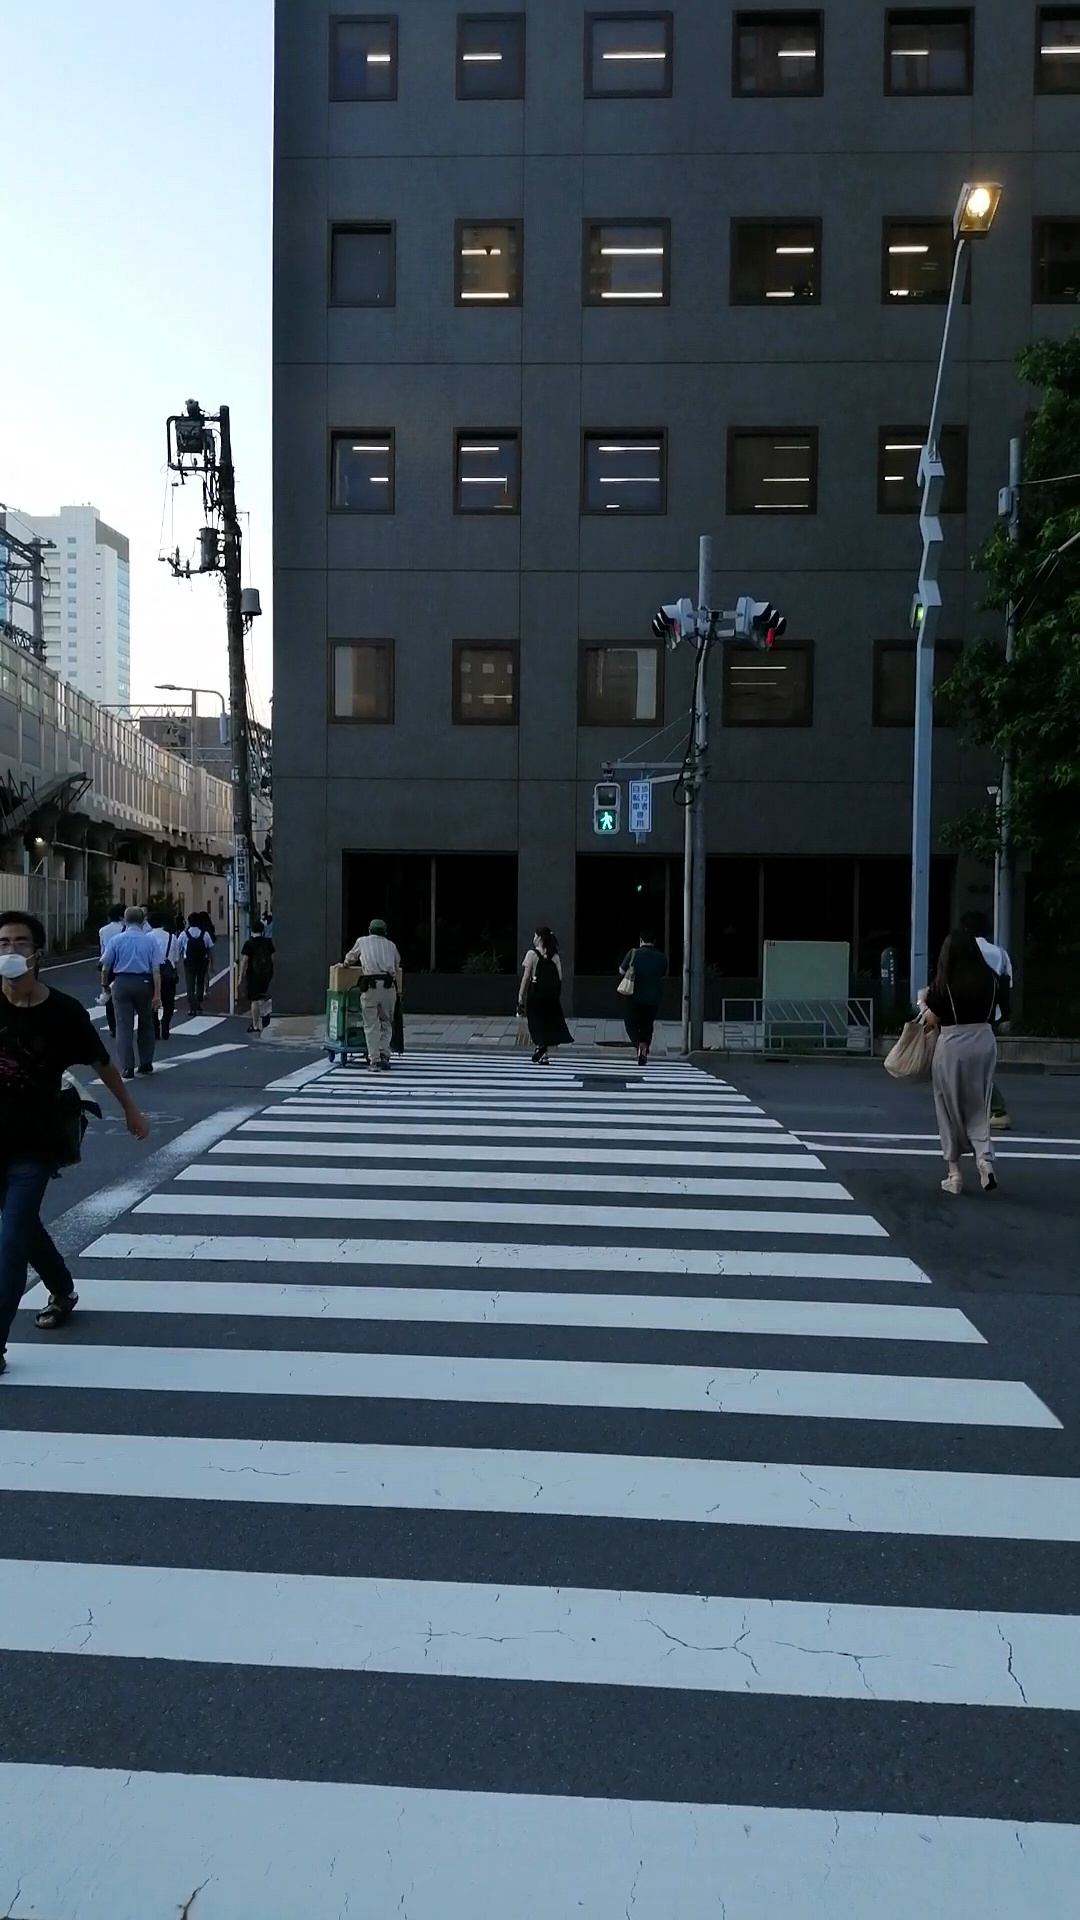green: (589, 781, 621, 835)
